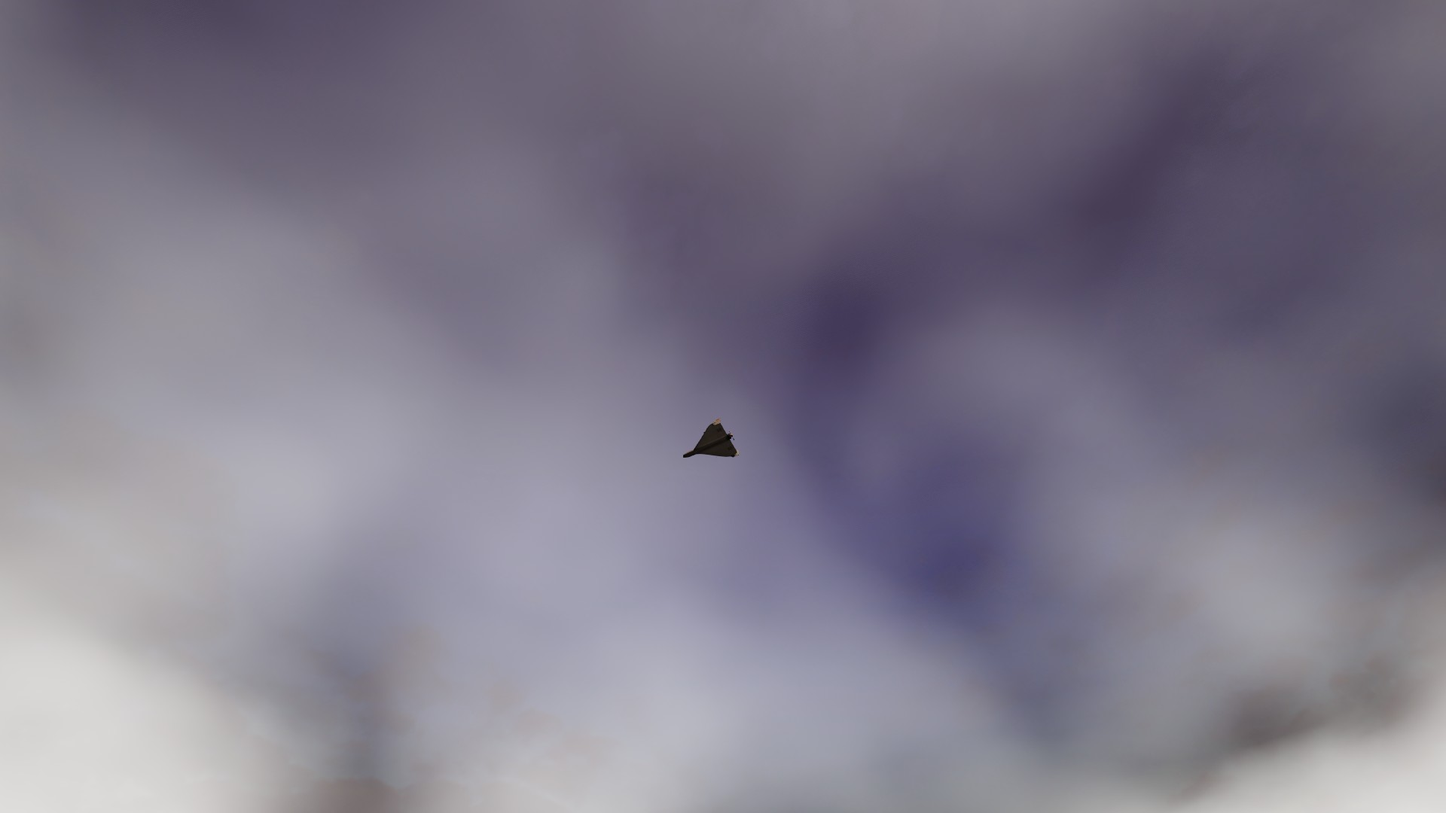shahed: (683, 418, 739, 458)
